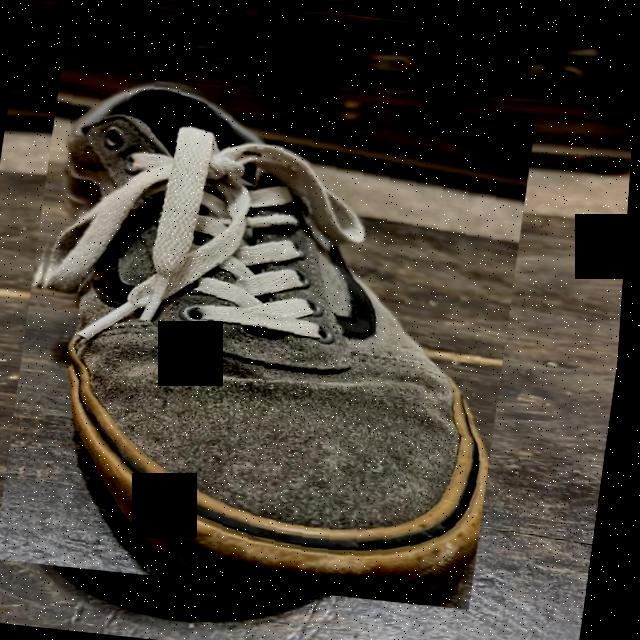shoe: (0, 66, 539, 606)
